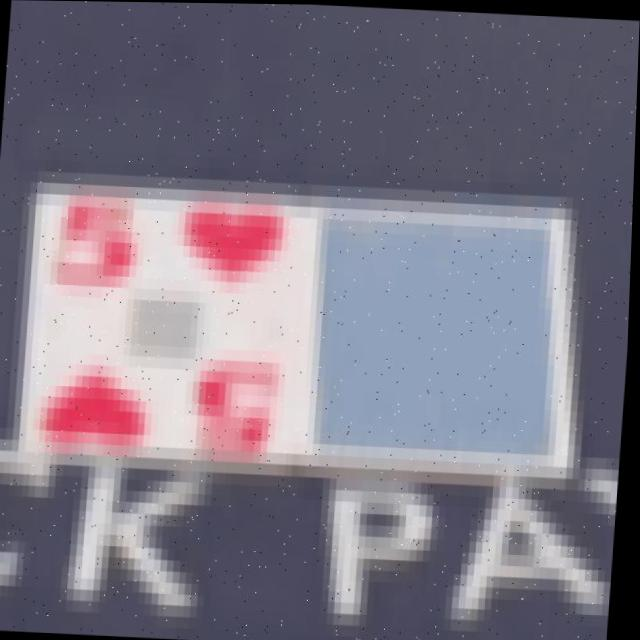Card-5: (26, 182, 311, 463)
